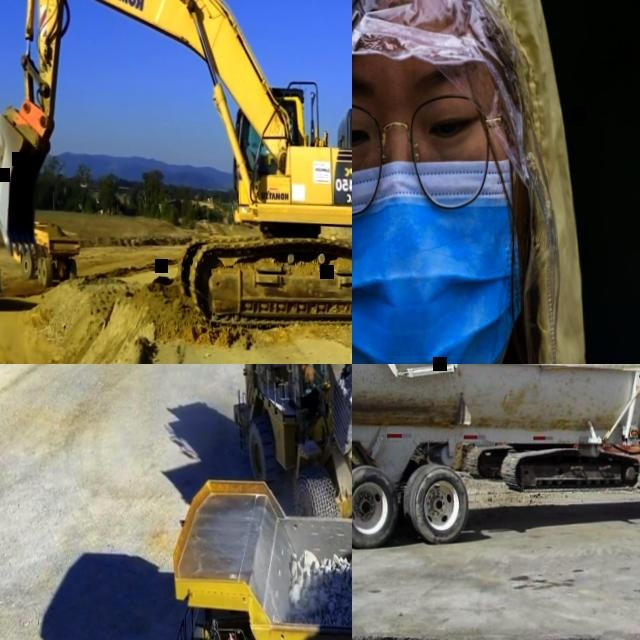Mask: (352, 157, 528, 364)
NO-Hardhat: (352, 0, 525, 76)
NO-Safety Vest: (305, 367, 313, 381)
Person: (352, 0, 640, 364), (303, 364, 319, 382)
machinery: (0, 0, 352, 332), (352, 364, 640, 640), (146, 469, 352, 640), (453, 364, 640, 490), (229, 364, 352, 519), (9, 214, 80, 286)
